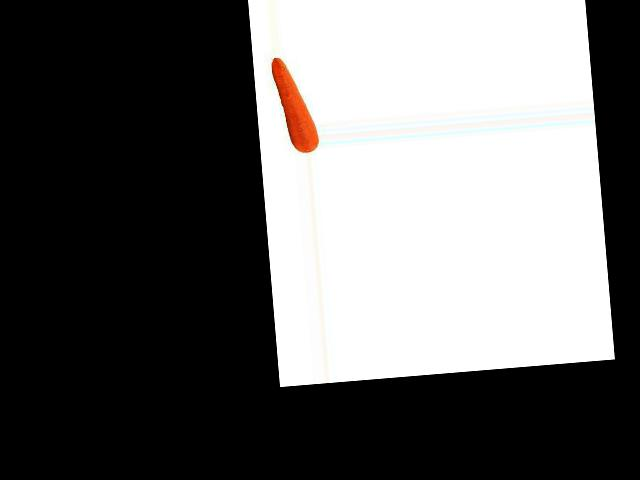carrot: (268, 55, 319, 155)
